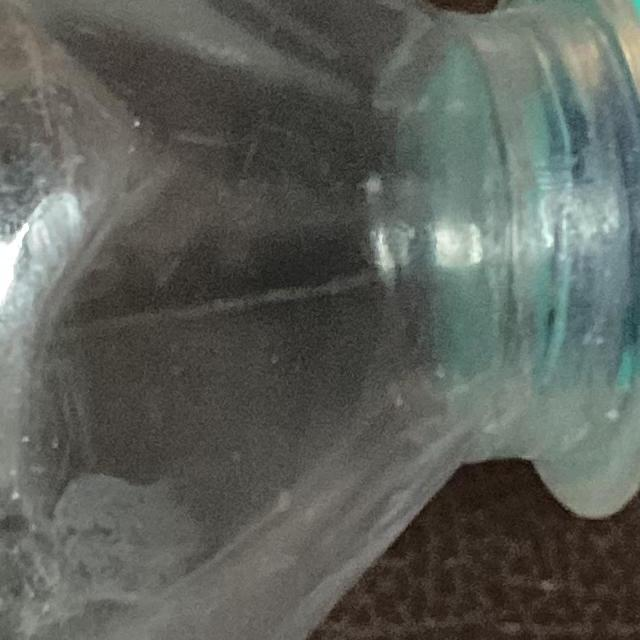Good-cap-Df0S: (536, 0, 640, 507)
